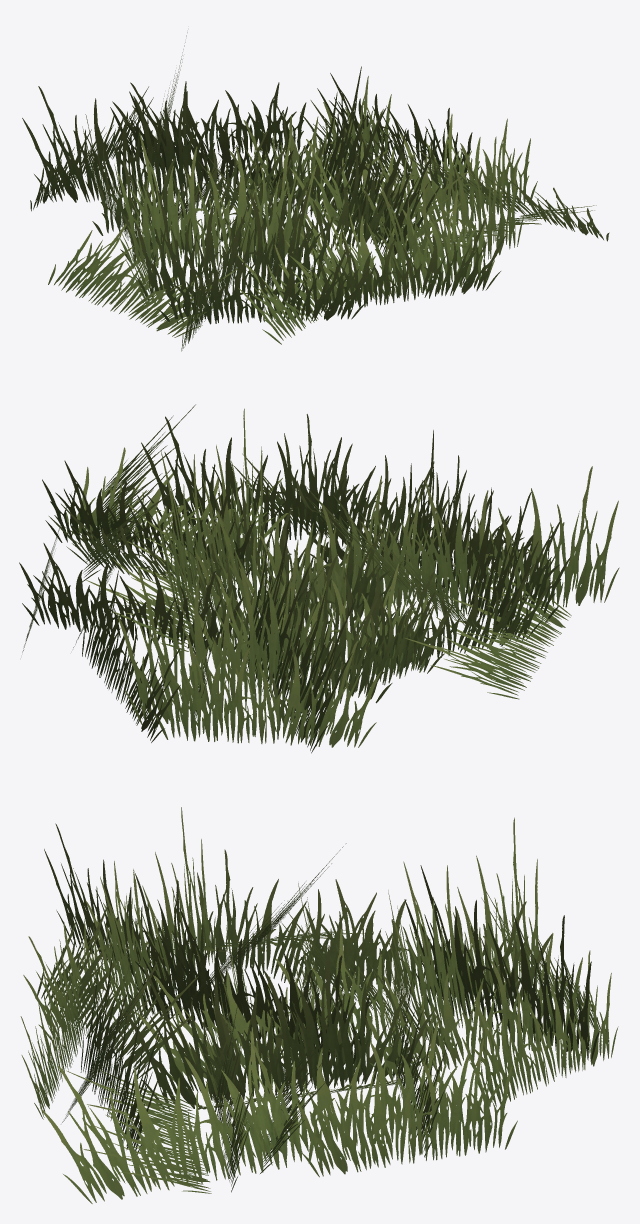
File: Grass.fbx
3 renders of one model, top to bottom at view 1: azimuth 30°, elevation 25°; view 2: azimuth 150°, elevation 25°; view 3: azimuth 270°, elevation 25°, orthographic. The views are drawn at different scales.
Visible parts, largest first — view 1: TO14_SM_MP_Grass00.mo; view 2: TO14_SM_MP_Grass00.mo; view 3: TO14_SM_MP_Grass00.mo.
Part boxes in pixels (bbox=[...]): TO14_SM_MP_Grass00.mo: bbox=[22, 32, 609, 351]; TO14_SM_MP_Grass00.mo: bbox=[19, 404, 619, 753]; TO14_SM_MP_Grass00.mo: bbox=[20, 807, 618, 1203].
Bounding box in the file's own units: 138 × 44.21 × 127.
